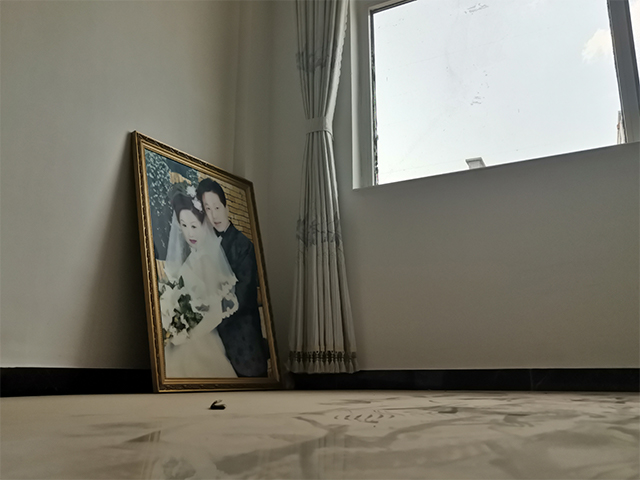curtain: (284, 1, 361, 377)
